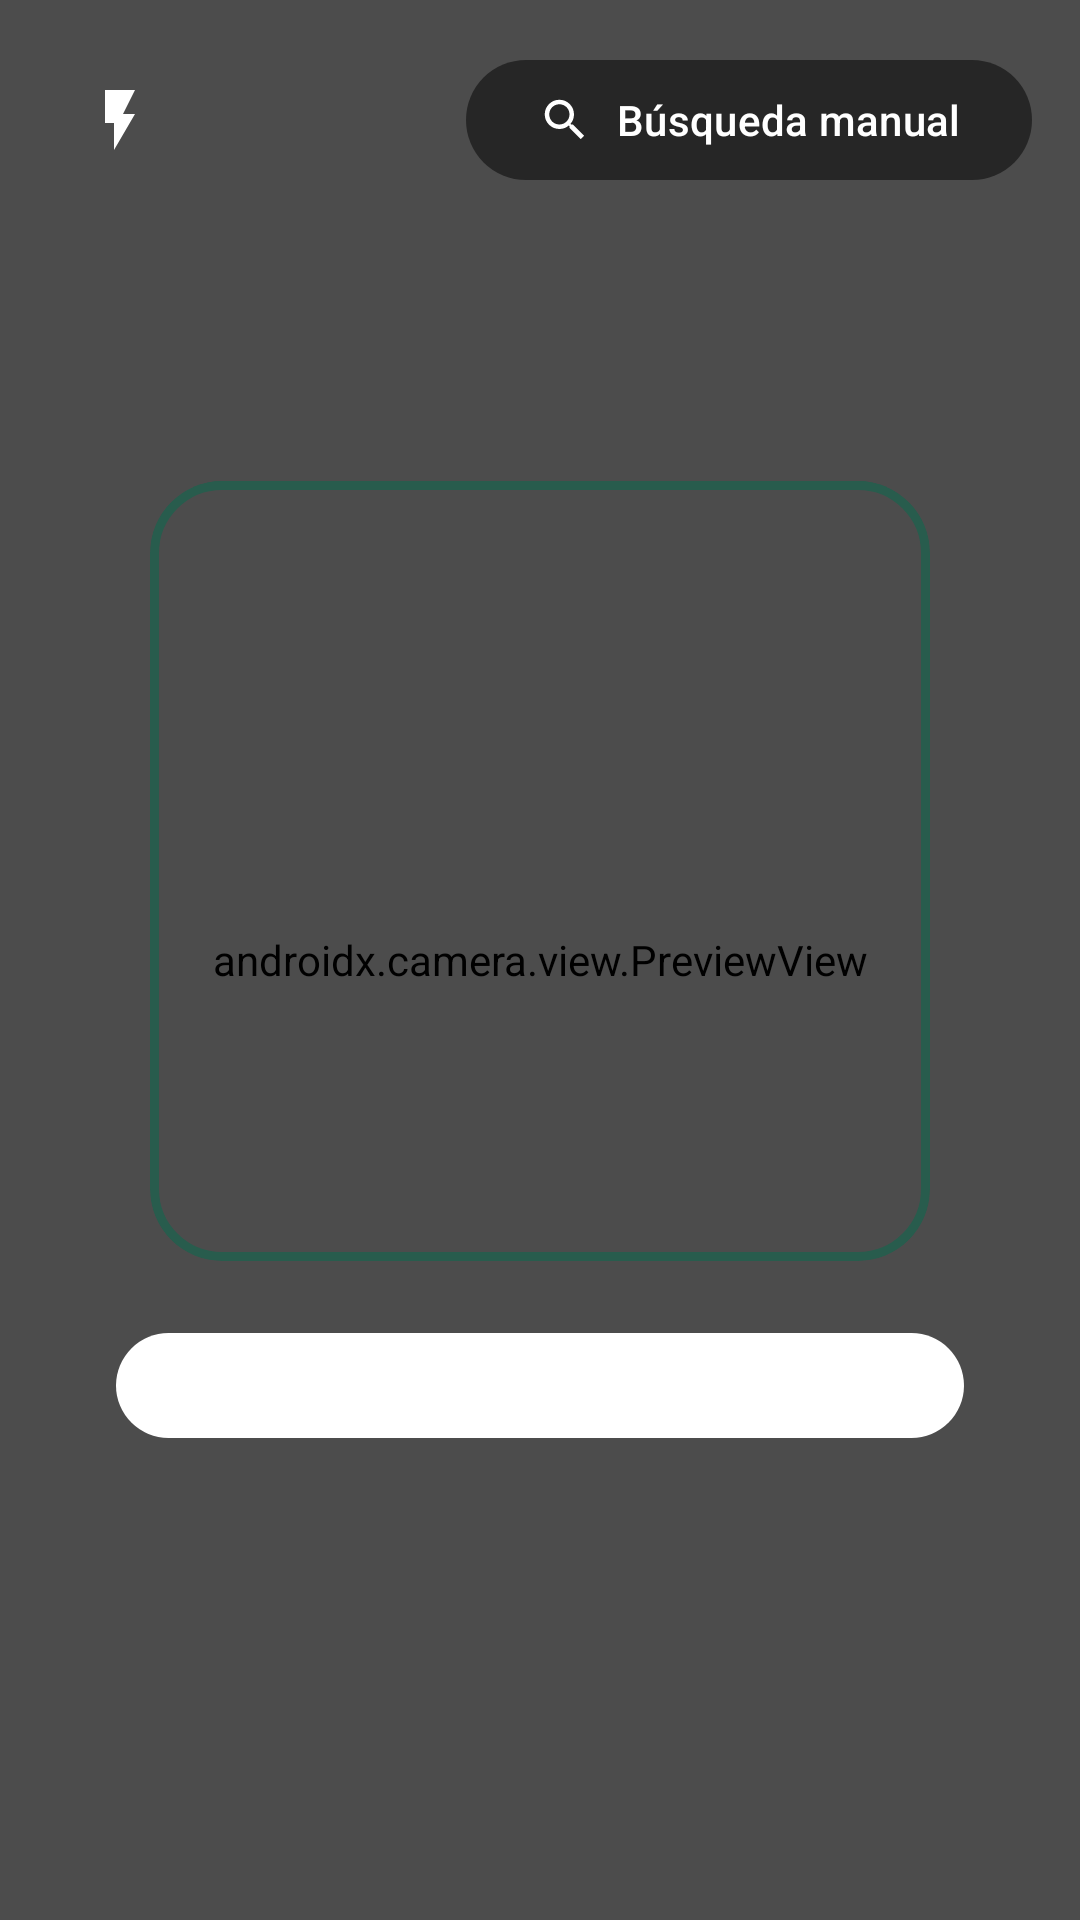

Where to tap for icons on this 1080px x 1920px app screen, as [x,y]:
Linterna: [120,120]
